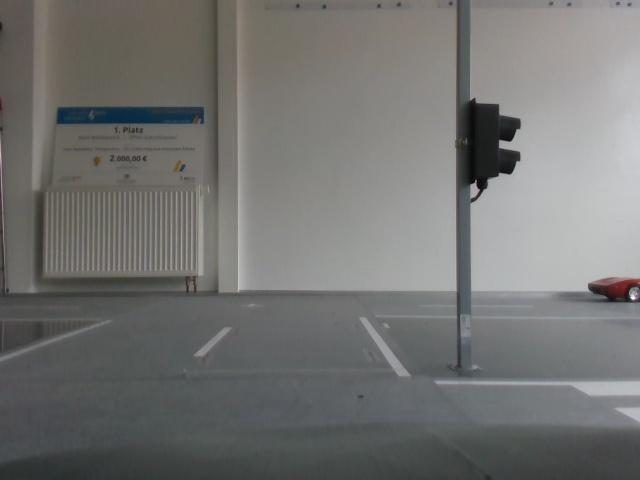car: (594, 267, 640, 303)
traffic light: (465, 86, 525, 208)
